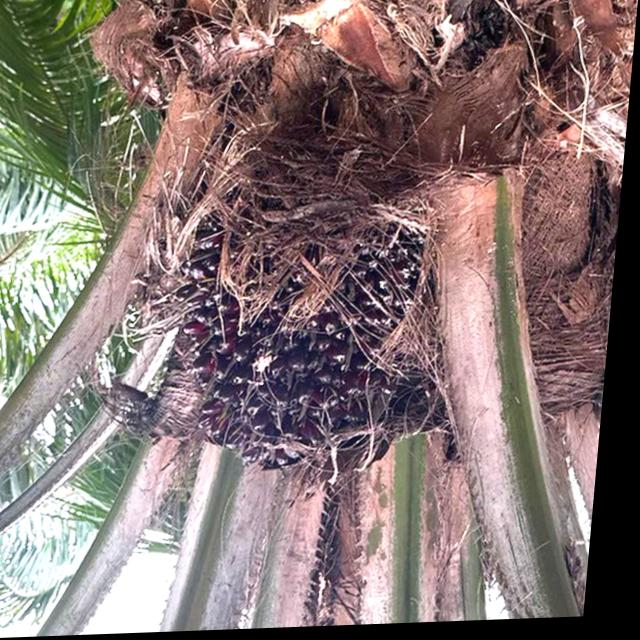ripe: (146, 180, 464, 503)
